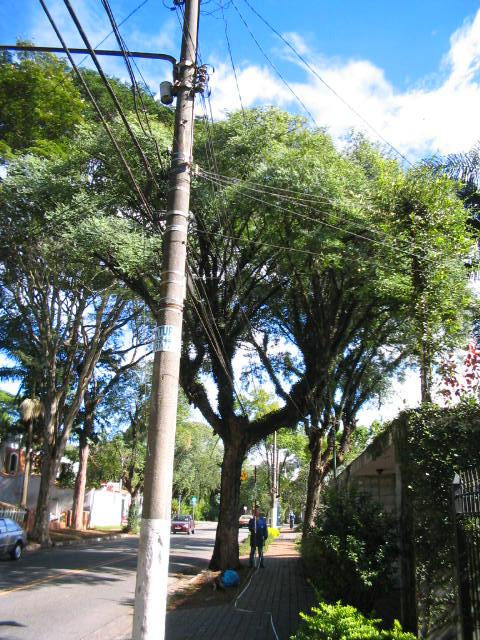crown: (20, 110, 470, 393)
stem: (205, 426, 248, 569)
stick: (248, 465, 264, 568)
tree: (15, 107, 474, 570)
